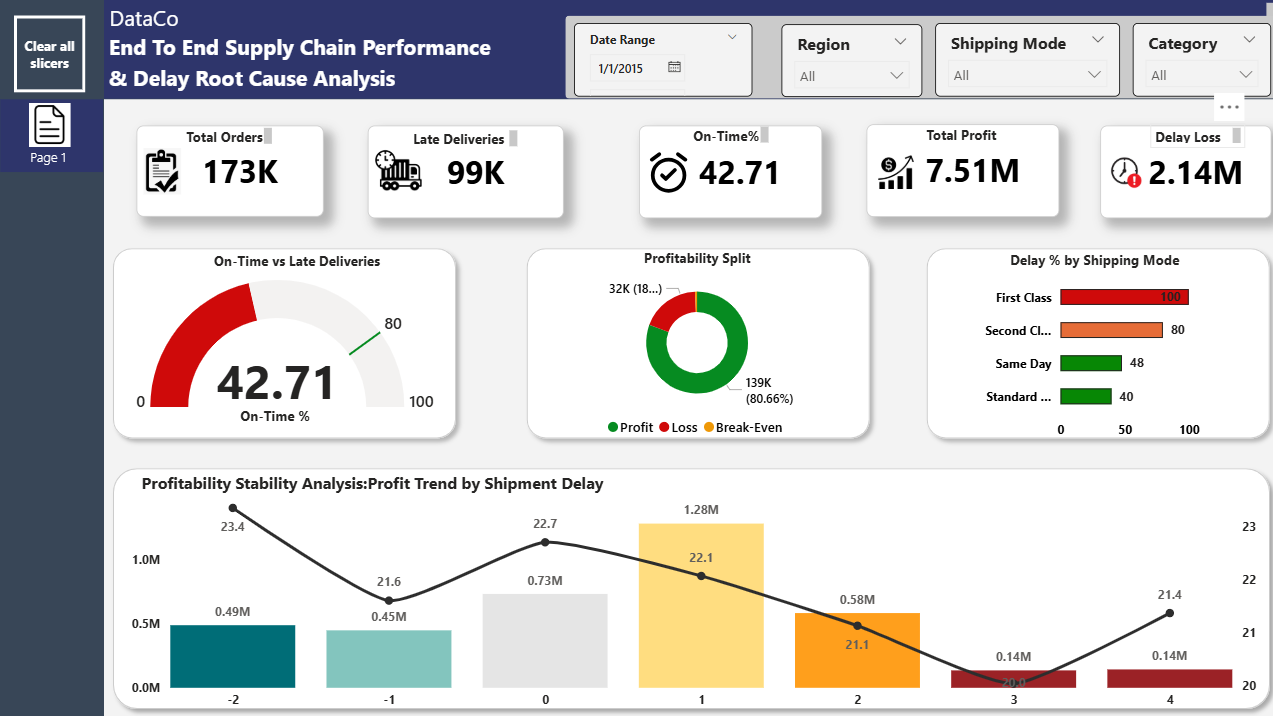

Layout of this report page (visuals, bound fields, positions):
{"tool":"powerbi","page":{"name":"Page 1","canvas":[1280,720],"ordinal":0},"visuals":[{"type":"card","fields":{"Values":["DataCoSupplyChainDataset.Total Profit"]},"box":[505,173.8,122.5,91.2],"z":0},{"type":"card","fields":{"Values":["DataCoSupplyChainDataset.Delay Loss"]},"box":[247.5,121.2,121.2,77.5],"z":1000},{"type":"shape","box":[105,101.2,1175,618.8],"z":2000},{"type":"textbox","box":[105,29,776.9,72.4],"z":3000},{"type":"textbox","box":[105,0,1175.1,36.2],"z":4000},{"type":"shape","box":[565.8,18.1,714.2,83.2],"z":5000},{"type":"slicer","fields":{"Values":["DataCoSupplyChainDataset.Order Date"]},"box":[575.5,25.3,178.6,73.6],"z":6000},{"type":"slicer","fields":{"Values":["DataCoSupplyChainDataset.Order Region"]},"box":[782.1,25.7,140.7,72.9],"z":7000},{"type":"slicer","fields":{"Values":["DataCoSupplyChainDataset.Shipping Mode"]},"box":[936.2,25.3,184.6,73.6],"z":8000},{"type":"slicer","fields":{"Values":["DataCoSupplyChainDataset.Customer Segment"]},"box":[1133.6,25,138.6,73.6],"z":9000},{"type":"card","fields":{"Values":["DataCoSupplyChainDataset.Total Orders"]},"box":[137.1,127.1,187.1,91.4],"z":10000},{"type":"card","fields":{"Values":["DataCoSupplyChainDataset.Late Deliveries"]},"box":[368.6,127.1,195.7,92.9],"z":11000},{"type":"card","fields":{"Values":["DataCoSupplyChainDataset.On Time %"]},"box":[640,127.1,182.9,92.9],"z":12000},{"type":"card","fields":{"Values":["DataCoSupplyChainDataset.Total Profit"]},"box":[867,126,193,93],"z":13000},{"type":"card","fields":{"Values":["DataCoSupplyChainDataset.Delay Loss"]},"box":[1101.4,127.1,171.4,92.9],"z":14000},{"type":"image","box":[143.5,150.4,39.1,46.1],"z":15000},{"type":"image","box":[376.5,149.1,46.1,47.4],"z":16000},{"type":"image","box":[640,152.2,59.1,44.3],"z":17000},{"type":"image","box":[822.9,145.7,148.6,55.7],"z":18000},{"type":"image","box":[1104.3,154.8,47.4,39.1],"z":19000},{"type":"textbox","box":[182.9,125,95.7,25.7],"z":20000},{"type":"textbox","box":[409.3,127.1,114.3,25.7],"z":21000},{"type":"textbox","box":[688.6,123.6,85.7,25.7],"z":22000},{"type":"textbox","box":[1151.2,125,95,25],"z":23000},{"type":"shape","box":[105.5,241.8,360.9,208.2],"z":24000},{"type":"shape","box":[518.2,241.8,360.9,208.2],"z":25000},{"type":"shape","box":[919.1,241.8,360.9,208.2],"z":26000},{"type":"gauge","fields":{"Y":["DataCoSupplyChainDataset.On Time %"]},"box":[127.3,264.5,317.3,166.4],"z":27000},{"type":"textbox","box":[210,249.1,199.1,27.3],"z":28000},{"type":"textbox","box":[236.4,403.6,100,27.3],"z":29000},{"type":"donutChart","fields":{"Category":["DataCoSupplyChainDataset.Profitability Flag"],"Y":["DataCoSupplyChainDataset.Total Orders"]},"box":[589.1,271.8,219.1,176.4],"z":30000},{"type":"textbox","box":[640,246.4,124.5,36.4],"z":31000},{"type":"clusteredBarChart","fields":{"Category":["DataCoSupplyChainDataset.Shipping Mode"],"Y":["DataCoSupplyChainDataset.Delay %"]},"box":[963.6,264.5,266.4,185.5],"z":32000},{"type":"textbox","box":[1006.4,247.3,187.3,30],"z":33000},{"type":"shape","box":[105,461.2,1175,258.8],"z":34000},{"type":"lineClusteredColumnComboChart","fields":{"Category":["DataCoSupplyChainDataset.Delay"],"Y":["Sum(DataCoSupplyChainDataset.Order Profit Per Order)"],"Y2":["Avg(DataCoSupplyChainDataset.Order Profit Per Order)"]},"box":[127.5,488.8,1135,231.2],"z":35000},{"type":"textbox","box":[922.5,122.5,83.8,36.2],"z":36000},{"type":"textbox","box":[137.5,468.8,512.5,40],"z":37000},{"type":"shape","box":[1.4,101.4,102.9,72.9],"z":38000},{"type":"image","box":[30,104.5,41.8,43.6],"z":39000},{"type":"textbox","box":[26.4,145.5,62.7,27.3],"z":40000},{"type":"actionButton","box":[15.1,17.8,71.4,76.8],"z":41000}]}

Visuals, with their boxes on the page's 1280x720 design canvas (x1, y1, x2, y2). These are canvas units, not pixel positions in the 1273x716 screenshot, which may show the page scaled, cropped or inside an application window:
card - DataCoSupplyChainDataset.Total Profit: (x1=505, y1=174, x2=628, y2=265)
card - DataCoSupplyChainDataset.Delay Loss: (x1=248, y1=121, x2=369, y2=199)
shape: (x1=105, y1=101, x2=1280, y2=720)
textbox: (x1=105, y1=29, x2=882, y2=101)
textbox: (x1=105, y1=0, x2=1280, y2=36)
shape: (x1=566, y1=18, x2=1280, y2=101)
slicer - DataCoSupplyChainDataset.Order Date: (x1=576, y1=25, x2=754, y2=99)
slicer - DataCoSupplyChainDataset.Order Region: (x1=782, y1=26, x2=923, y2=99)
slicer - DataCoSupplyChainDataset.Shipping Mode: (x1=936, y1=25, x2=1121, y2=99)
slicer - DataCoSupplyChainDataset.Customer Segment: (x1=1134, y1=25, x2=1272, y2=99)
card - DataCoSupplyChainDataset.Total Orders: (x1=137, y1=127, x2=324, y2=218)
card - DataCoSupplyChainDataset.Late Deliveries: (x1=369, y1=127, x2=564, y2=220)
card - DataCoSupplyChainDataset.On Time %: (x1=640, y1=127, x2=823, y2=220)
card - DataCoSupplyChainDataset.Total Profit: (x1=867, y1=126, x2=1060, y2=219)
card - DataCoSupplyChainDataset.Delay Loss: (x1=1101, y1=127, x2=1273, y2=220)
image: (x1=144, y1=150, x2=183, y2=196)
image: (x1=376, y1=149, x2=423, y2=196)
image: (x1=640, y1=152, x2=699, y2=196)
image: (x1=823, y1=146, x2=972, y2=201)
image: (x1=1104, y1=155, x2=1152, y2=194)
textbox: (x1=183, y1=125, x2=279, y2=151)
textbox: (x1=409, y1=127, x2=524, y2=153)
textbox: (x1=689, y1=124, x2=774, y2=149)
textbox: (x1=1151, y1=125, x2=1246, y2=150)
shape: (x1=106, y1=242, x2=466, y2=450)
shape: (x1=518, y1=242, x2=879, y2=450)
shape: (x1=919, y1=242, x2=1280, y2=450)
gauge - DataCoSupplyChainDataset.On Time %: (x1=127, y1=264, x2=445, y2=431)
textbox: (x1=210, y1=249, x2=409, y2=276)
textbox: (x1=236, y1=404, x2=336, y2=431)
donutChart - DataCoSupplyChainDataset.Profitability Flag x DataCoSupplyChainDataset.Total Orders: (x1=589, y1=272, x2=808, y2=448)
textbox: (x1=640, y1=246, x2=764, y2=283)
clusteredBarChart - DataCoSupplyChainDataset.Shipping Mode x DataCoSupplyChainDataset.Delay %: (x1=964, y1=264, x2=1230, y2=450)
textbox: (x1=1006, y1=247, x2=1194, y2=277)
shape: (x1=105, y1=461, x2=1280, y2=720)
lineClusteredColumnComboChart - DataCoSupplyChainDataset.Delay x Sum(DataCoSupplyChainDataset.Order Profit Per Order): (x1=128, y1=489, x2=1262, y2=720)
textbox: (x1=922, y1=122, x2=1006, y2=159)
textbox: (x1=138, y1=469, x2=650, y2=509)
shape: (x1=1, y1=101, x2=104, y2=174)
image: (x1=30, y1=104, x2=72, y2=148)
textbox: (x1=26, y1=146, x2=89, y2=173)
actionButton: (x1=15, y1=18, x2=86, y2=95)
